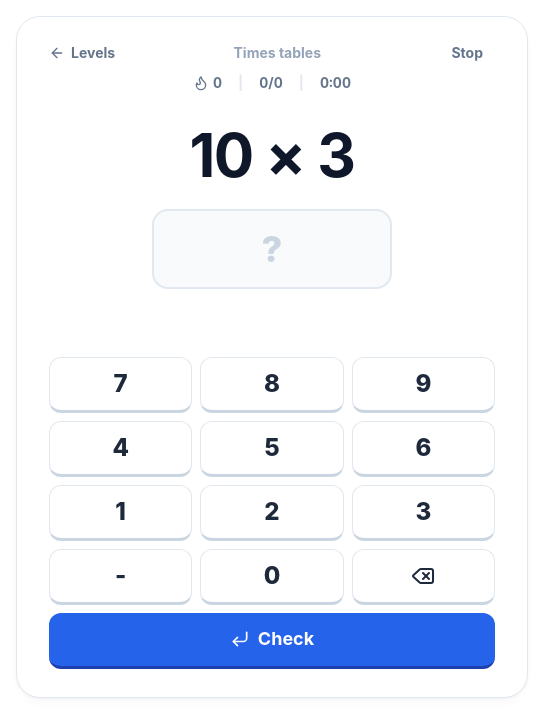
Test: on a touch device › drives the value from the keypad
The image size is (545, 716).
Click the button "4": click(121, 448) [49,420,192,476]
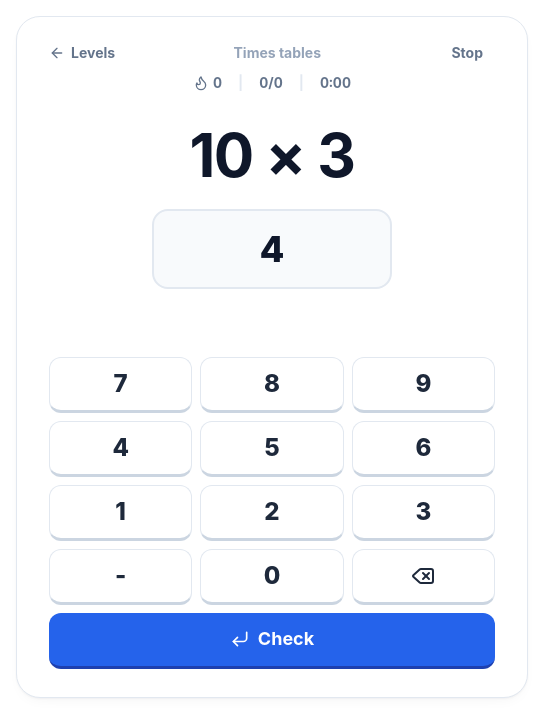
Click the button "2": click(272, 512) [200,484,344,540]
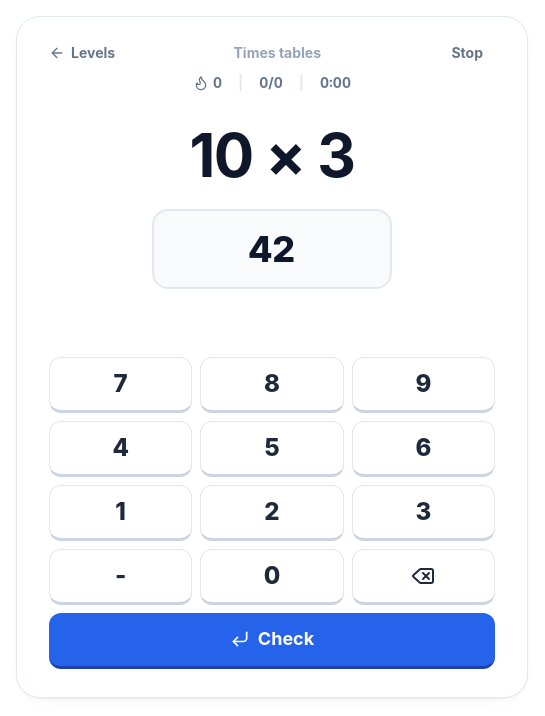
Expected: the field named "Answer for " holds "42", [154,228,390,268]
Click the button named "backspace": click(423, 576) [352,548,495,604]
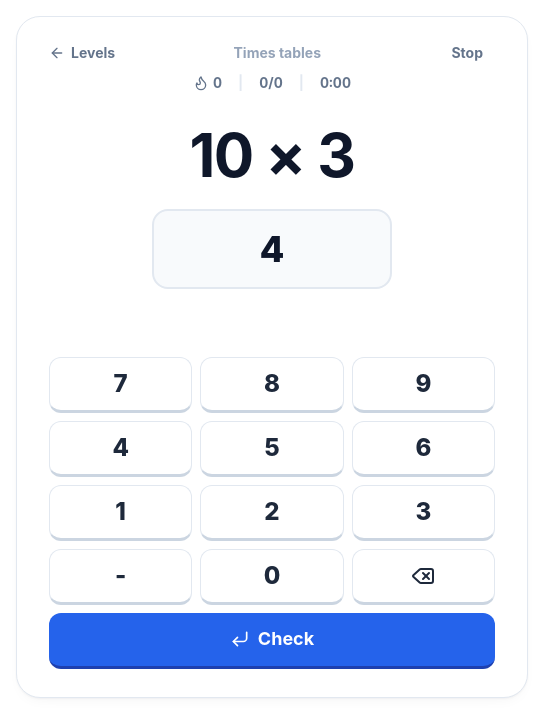
Expected: the field named "Answer for " holds "4", [154,228,390,268]
Click the button named "minus": click(121, 576) [49,548,192,604]
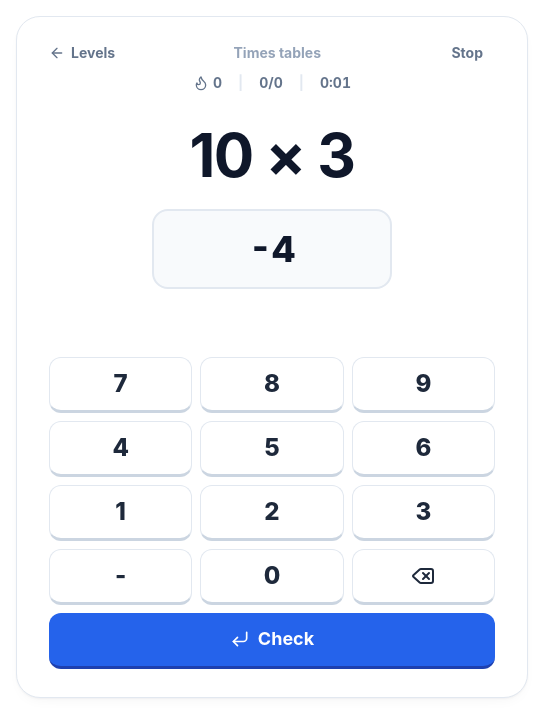
Expected: the field named "Answer for " holds "-4", [154,228,390,268]
